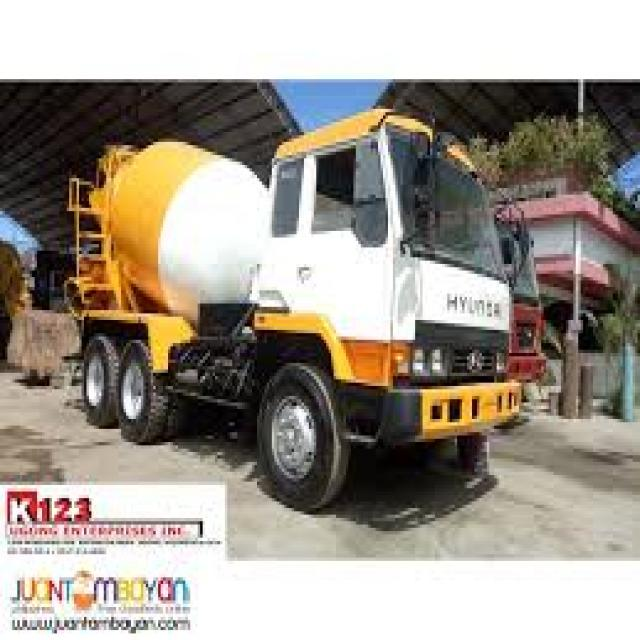Mixer Truck: (62, 101, 522, 517)
